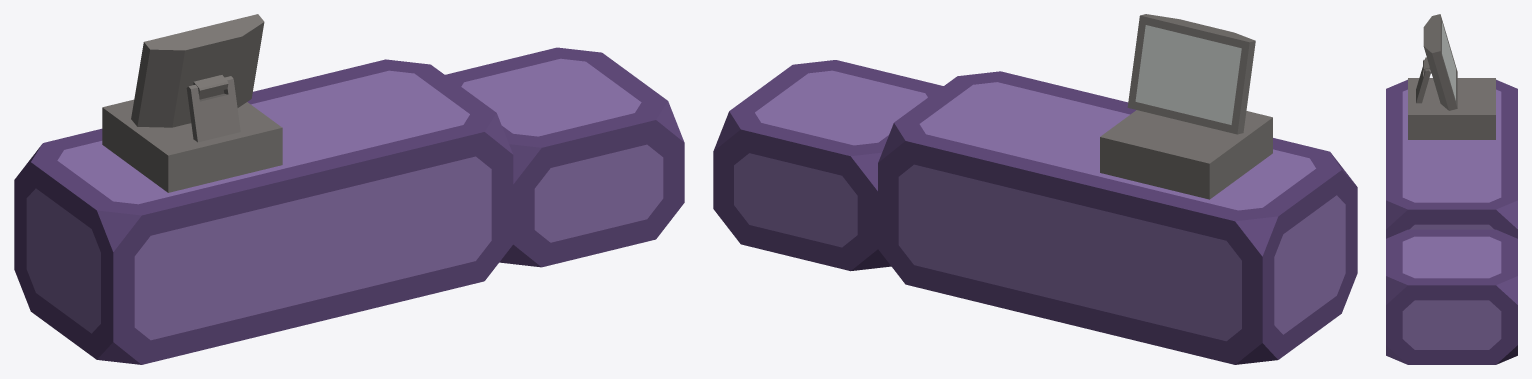
File: Counter09.fbx
The picture shows the model from 3 angles, left to right: view 1: azimuth 30°, elevation 25°; view 2: azimuth 150°, elevation 25°; view 3: azimuth 270°, elevation 25°; orthographic projection. The views are drawn at different scales.
Visible parts, largest first — view 1: Table_Large, Table_Small, CashRegister; view 2: Table_Large, Table_Small, CashRegister; view 3: Table_Small, Table_Large, CashRegister.
Boxes of the visible parts, left/top/right/bottom form: Table_Large: left=14, top=59, right=513, bottom=364; Table_Small: left=445, top=47, right=684, bottom=267; CashRegister: left=102, top=14, right=282, bottom=192; Table_Large: left=878, top=71, right=1357, bottom=364; Table_Small: left=713, top=60, right=943, bottom=271; CashRegister: left=1100, top=14, right=1272, bottom=199; Table_Small: left=1386, top=229, right=1517, bottom=364; Table_Large: left=1386, top=79, right=1517, bottom=238; CashRegister: left=1408, top=14, right=1495, bottom=139.
Bounding box in the file's own units: 4 × 1.89 × 1.2.
Materials: 1 (1 with a texture image).
